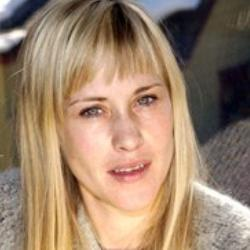face: (8, 1, 206, 242)
